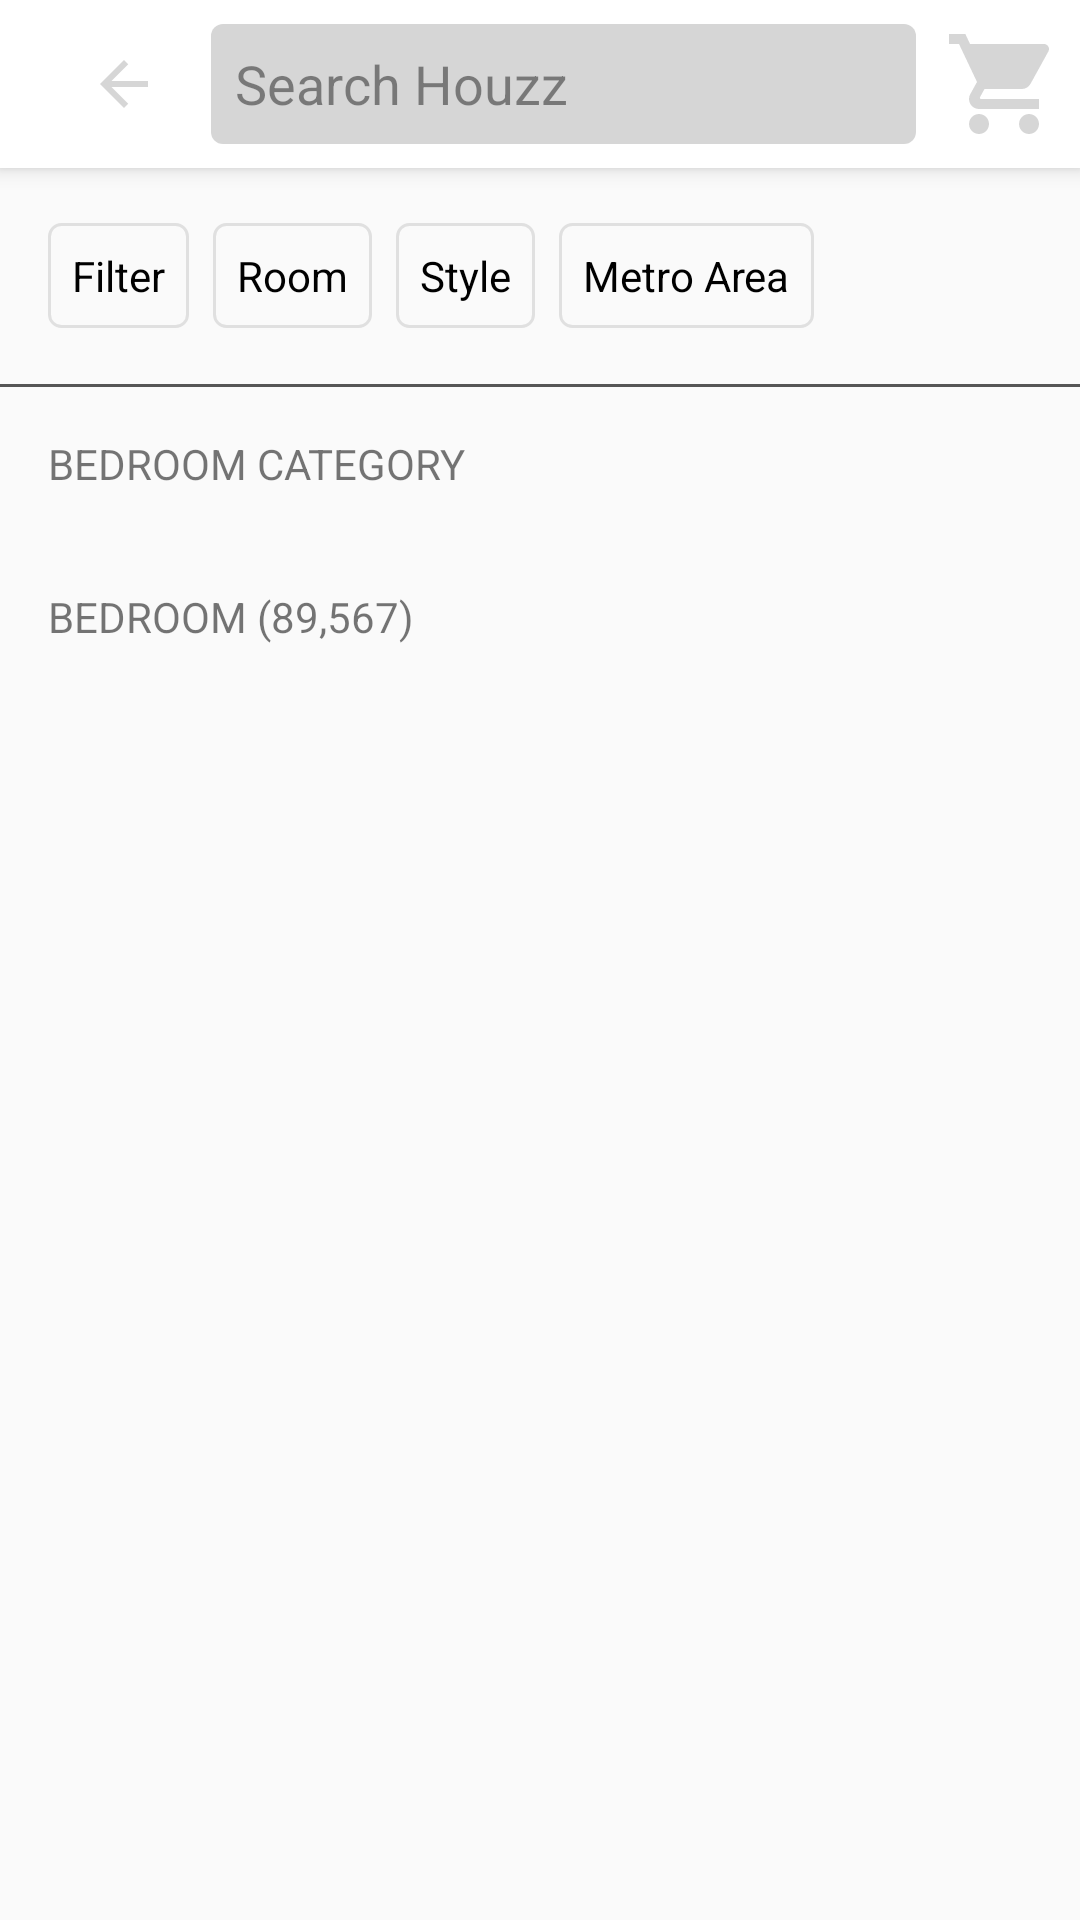

Screen size 1080px x 1920px. Icon name, then its center in pixels as point (x, y):
arrow back: point (124, 84)
shopping cart: point (999, 84)
